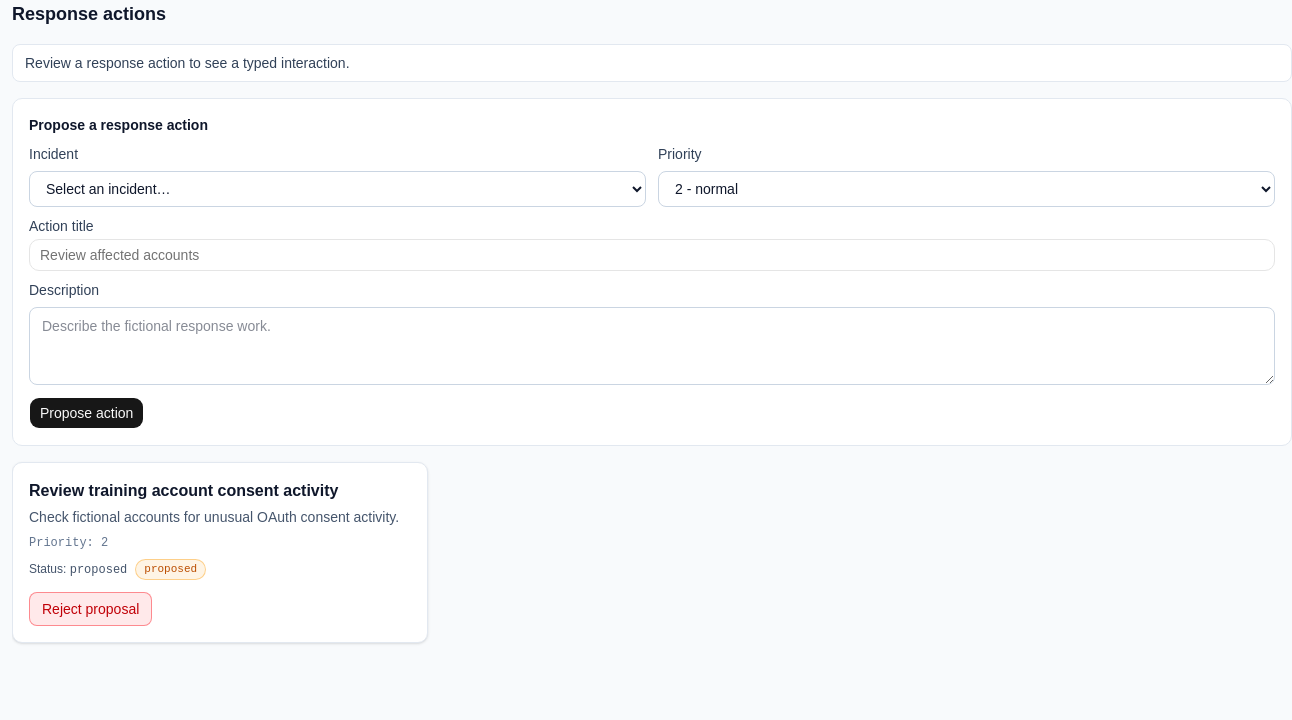
Test: response-action rejection › lets a commander reject a proposed action and displays API errors
This screenshot has width=1292, height=720.
Step 1. Click the button "Reject proposal" → (91, 609), box [29, 592, 152, 626]
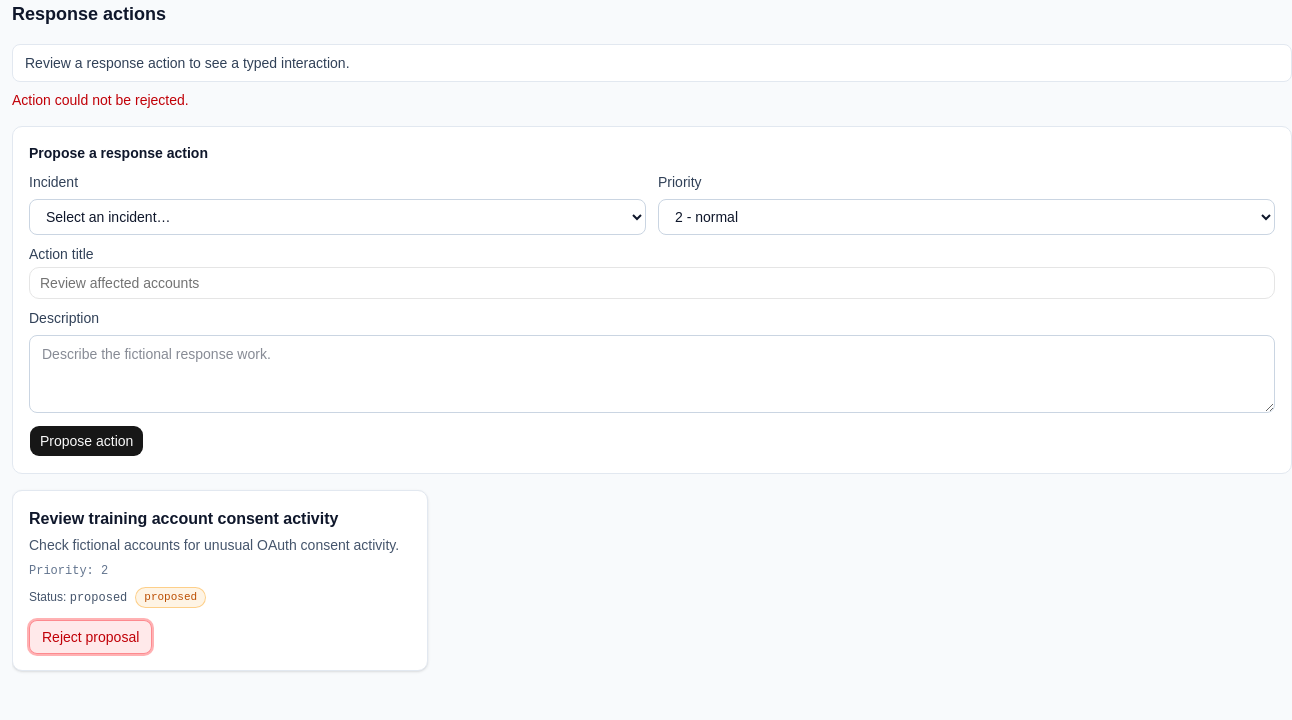
Expected: the message "Action could not be rejected." is shown, [12, 92, 189, 108]
